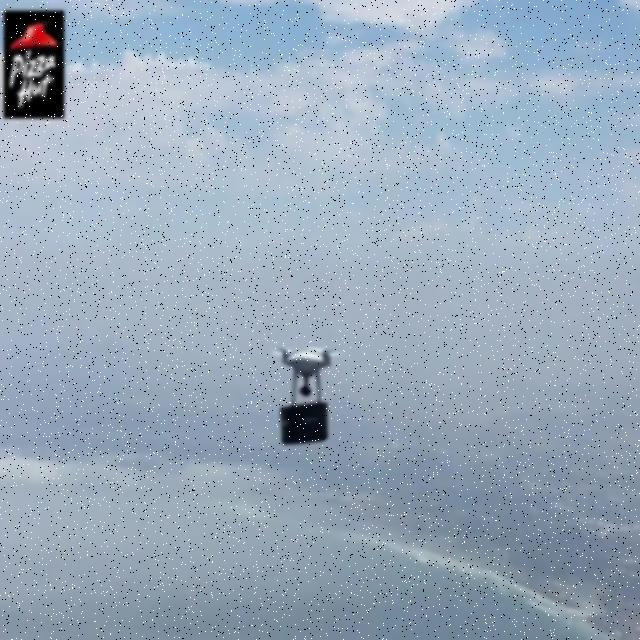UAV: (272, 347, 342, 405)
